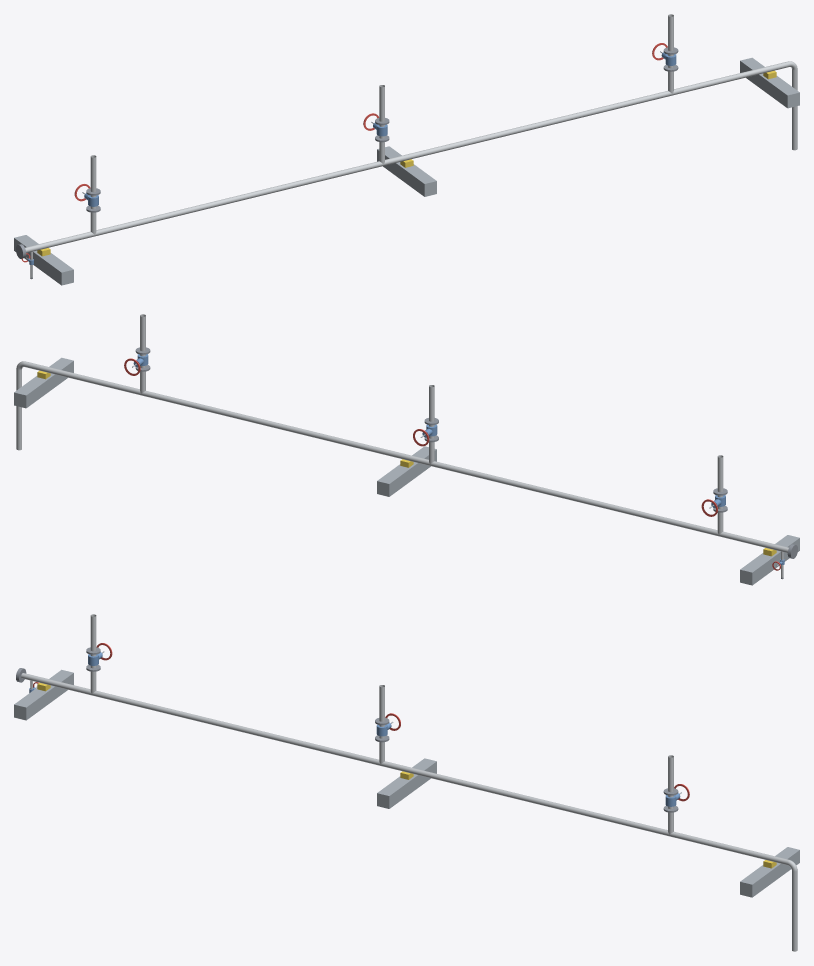
3 views of the same model, one above another, from view 1: azimuth 30°, elevation 25°; view 2: azimuth 150°, elevation 25°; view 3: azimuth 330°, elevation 25° (orthographic).
Visible parts, largest first — view 1: pipe, steel, flange; view 2: pipe, steel, flange; view 3: pipe, steel, flange.
Boxes of the visible parts, bbox=[...] form: pipe: bbox=[25, 14, 797, 277]; steel: bbox=[14, 51, 799, 285]; flange: bbox=[16, 47, 678, 279]; pipe: bbox=[16, 314, 788, 577]; steel: bbox=[14, 357, 799, 585]; flange: bbox=[135, 347, 797, 579]; pipe: bbox=[21, 614, 797, 951]; steel: bbox=[14, 651, 799, 897]; flange: bbox=[16, 647, 678, 812].
Size of the model in its own units: 9.43 by 1.9 by 1.
